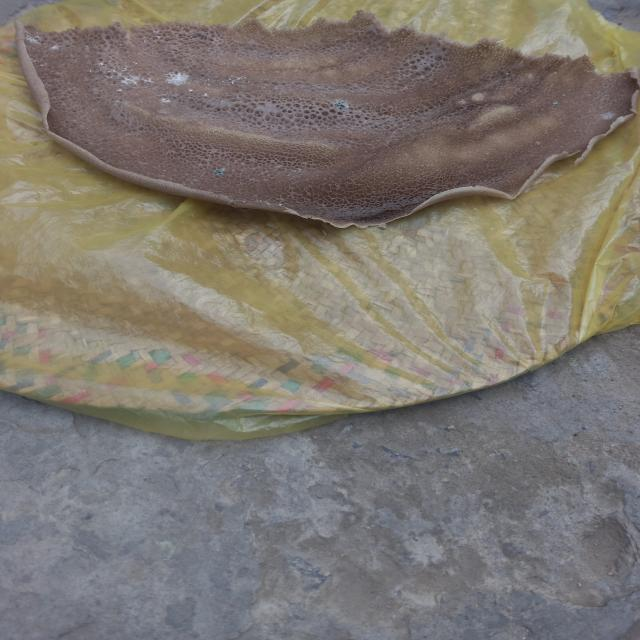injera_mold: (101, 62, 156, 94), (163, 70, 191, 86), (21, 29, 44, 45), (225, 74, 248, 86), (330, 98, 350, 111), (599, 109, 617, 122), (291, 164, 304, 173), (213, 167, 224, 176), (160, 97, 173, 104), (49, 44, 62, 50), (550, 99, 560, 106), (202, 92, 210, 98), (187, 88, 194, 93)
